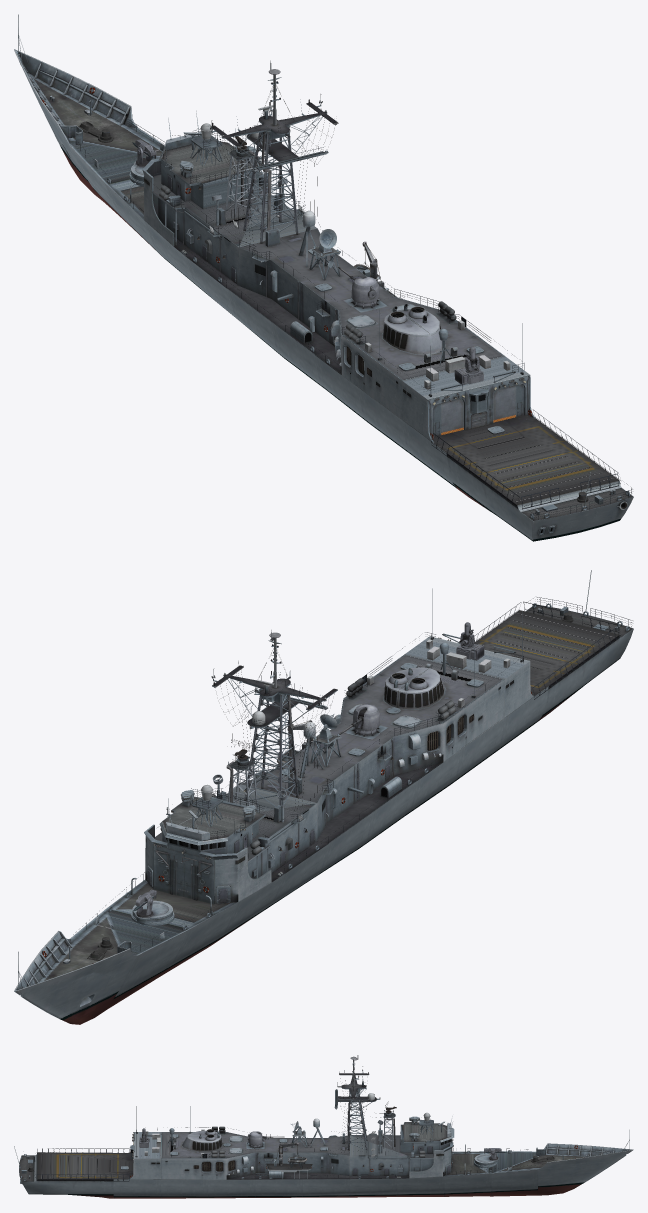
File: type_perry.glb
The picture shows the model from 3 angles, top to bottom: view 1: azimuth 30°, elevation 25°; view 2: azimuth 150°, elevation 25°; view 3: azimuth 270°, elevation 25°; orthographic projection. The views are drawn at different scales.
Parts seen in each view (by area): view 1: skfb_offset; view 2: skfb_offset; view 3: skfb_offset.
Boxes of the visible parts, x1,y1,x2,y2 form: skfb_offset: (14, 14, 633, 541); skfb_offset: (14, 570, 633, 1024); skfb_offset: (14, 1055, 633, 1198).
Size of the model in its own units: 15.08 by 34.45 by 136.
Materials: 9 (9 with a texture image).
